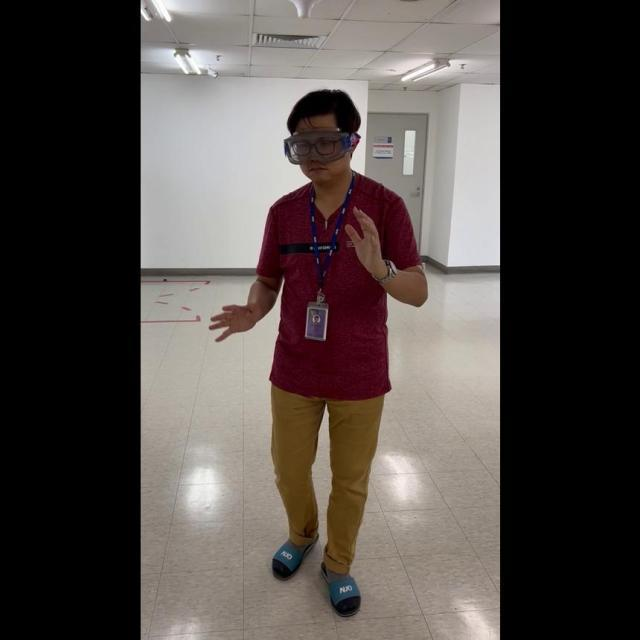bare_hand: (342, 202, 387, 279), (208, 295, 257, 344)
